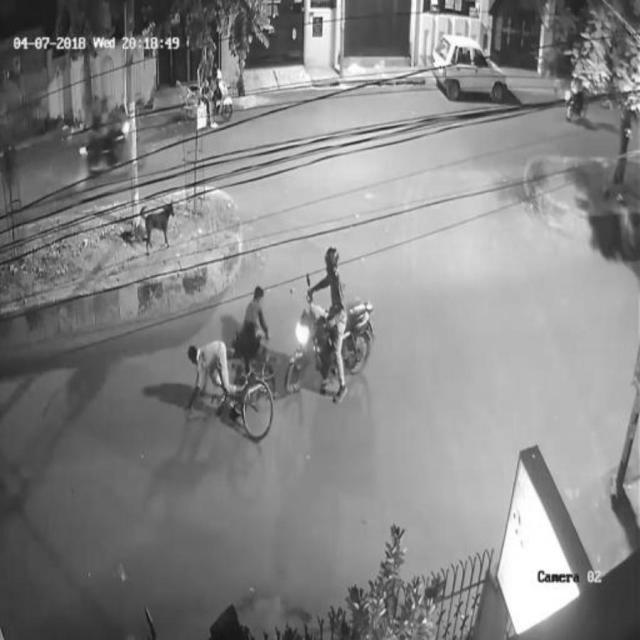vehicle: (182, 276, 278, 442), (287, 241, 375, 407), (430, 29, 507, 103), (83, 96, 131, 176), (194, 47, 235, 124), (564, 65, 592, 127)
